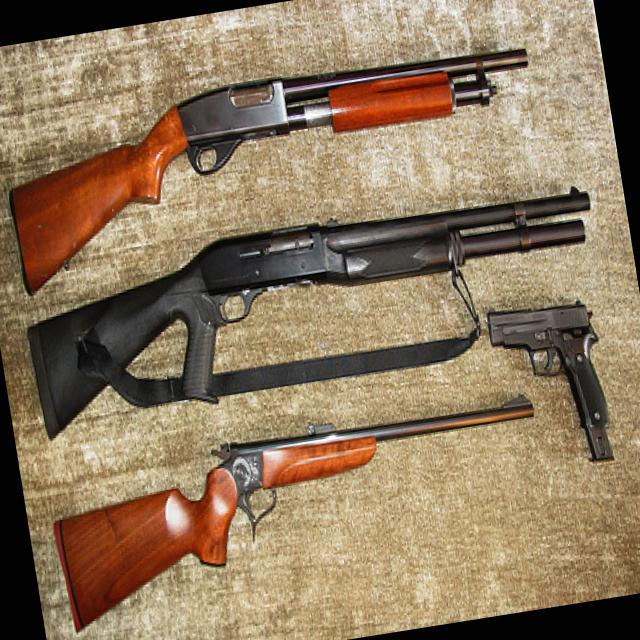handgun: (484, 290, 612, 443)
